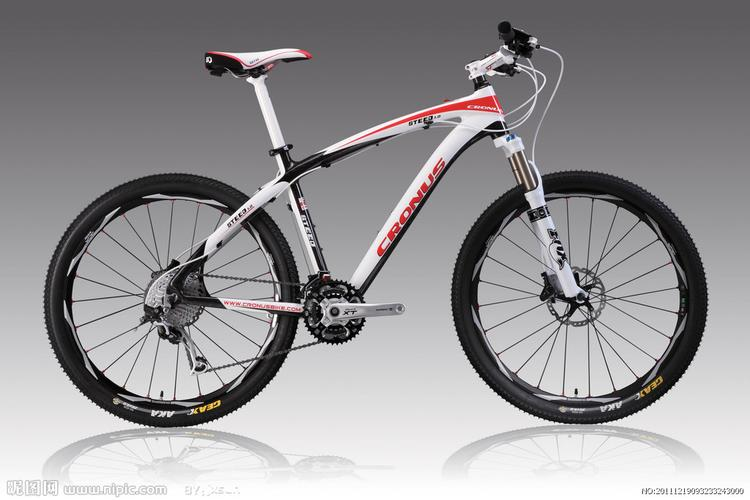单车: (35, 16, 727, 438)
